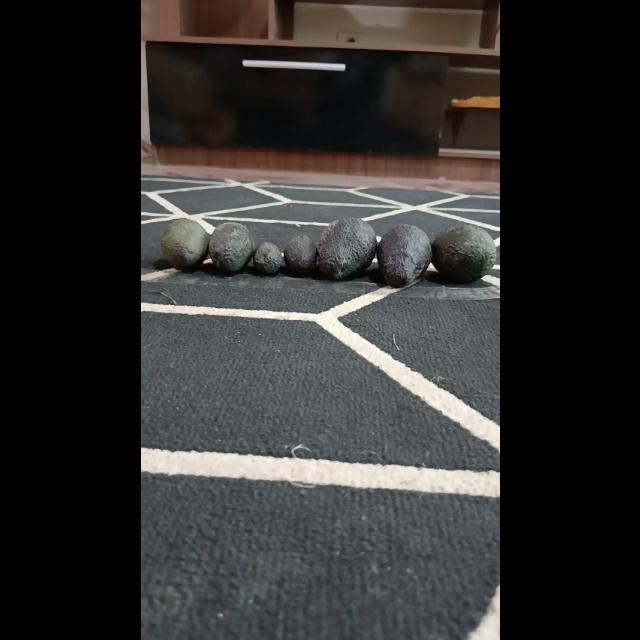Primera: (430, 224, 496, 284), (316, 216, 376, 280), (376, 224, 432, 288)
Segunda: (159, 218, 209, 270), (207, 222, 255, 272)
Tercera: (282, 236, 318, 276), (251, 242, 281, 274)
